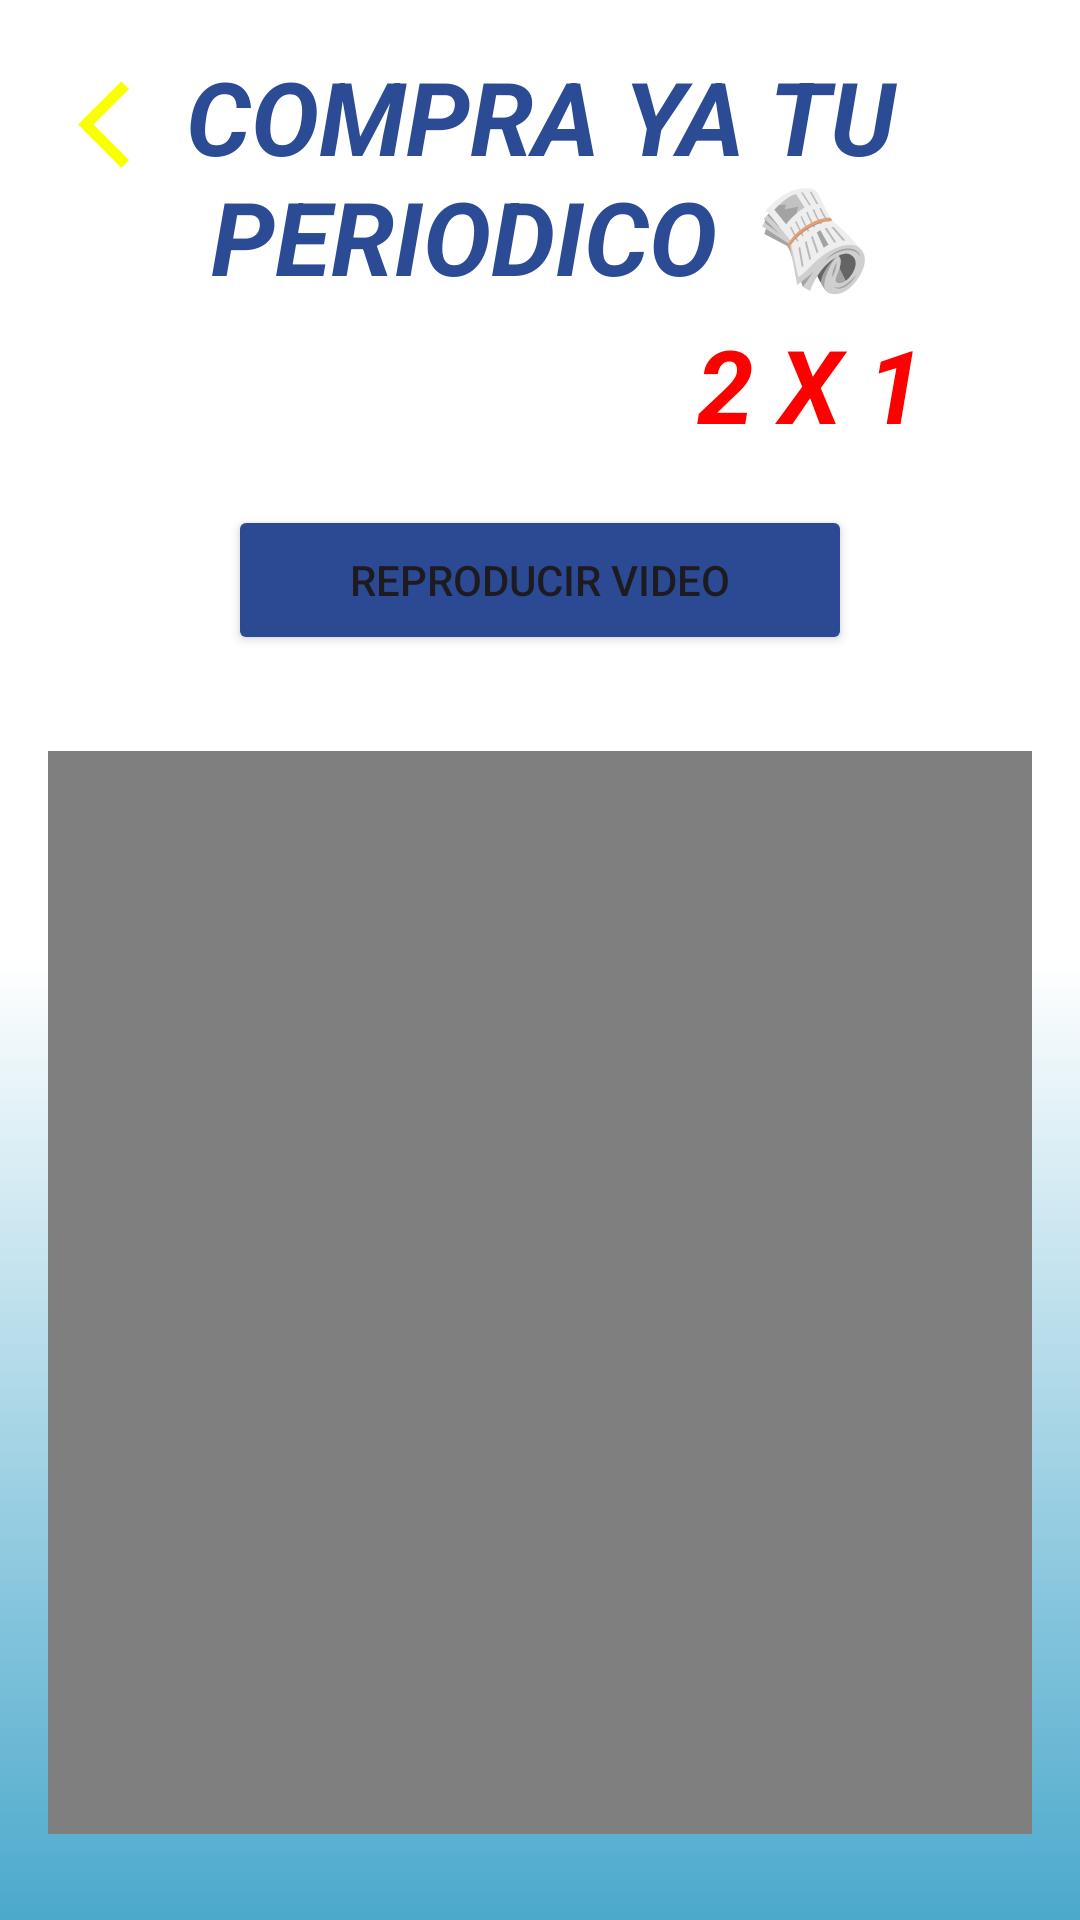

Screen size 1080px x 1920px. Icon name, then its box in pixels as (x1, y1, x2, y2):
arrow back: (78, 81, 129, 168)
